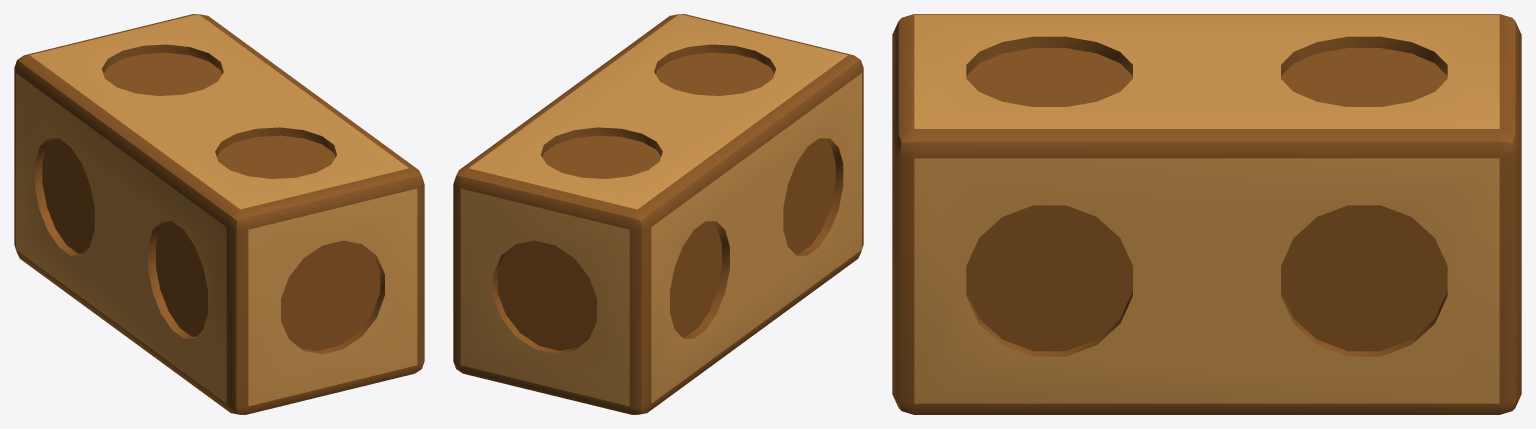
Rendered from ShortBlock.fbx.
3 renders of one model, left to right at view 1: azimuth 30°, elevation 25°; view 2: azimuth 150°, elevation 25°; view 3: azimuth 270°, elevation 25°, orthographic. The views are drawn at different scales.
Parts seen in each view (by area): view 1: ShortBlock_LOD0; view 2: ShortBlock_LOD0; view 3: ShortBlock_LOD0.
Boxes of the visible parts, box(x1,y1,x2,y2) form: ShortBlock_LOD0: box(14, 14, 424, 414); ShortBlock_LOD0: box(453, 14, 863, 414); ShortBlock_LOD0: box(892, 14, 1521, 414).
Size of what is drawn, in the model's own units: 0.0873 by 0.0873 by 0.1746.
